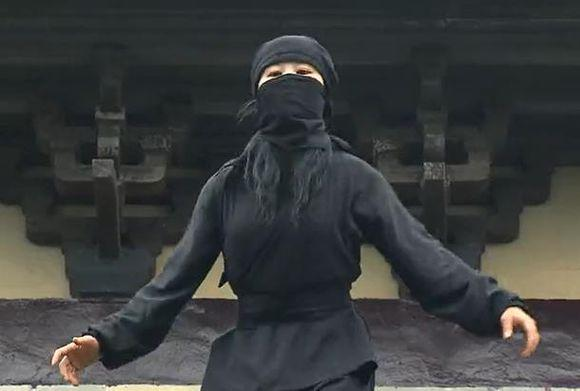OK: (262, 61, 325, 124)
